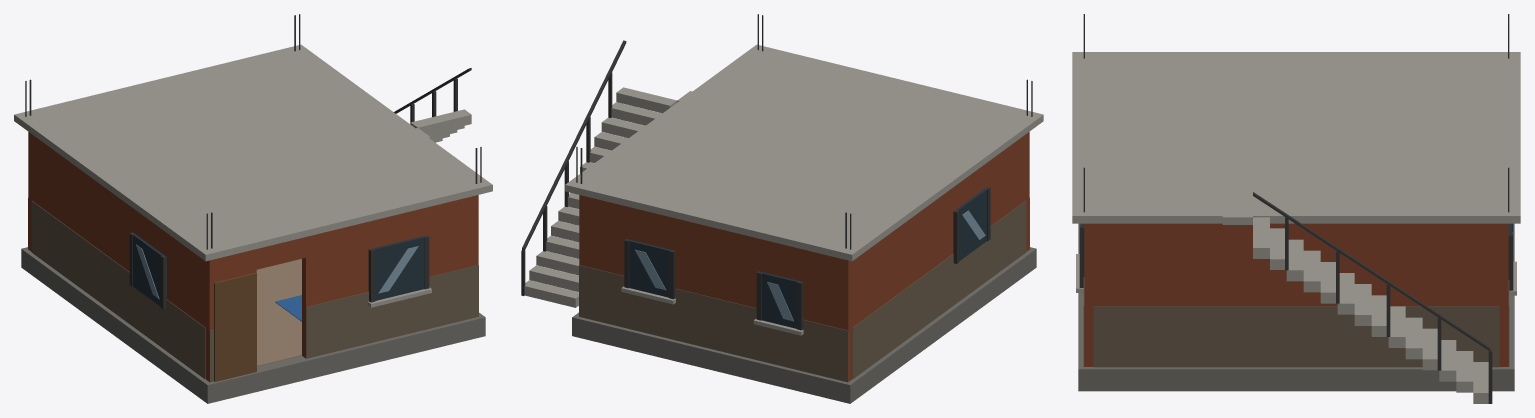
Rendered from casa_laje_c.glb.
The picture shows the model from 3 angles, left to right: view 1: azimuth 30°, elevation 25°; view 2: azimuth 150°, elevation 25°; view 3: azimuth 270°, elevation 25°; orthographic projection. The views are drawn at different scales.
Parts seen in each view (by area): view 1: casa_laje_c; view 2: casa_laje_c; view 3: casa_laje_c.
Part boxes in pixels (bbox=[...]): casa_laje_c: bbox=[14, 14, 492, 403]; casa_laje_c: bbox=[521, 14, 1043, 403]; casa_laje_c: bbox=[1072, 14, 1520, 403].
Size of the model in its own units: 7.65 by 4.24 by 7.4.
